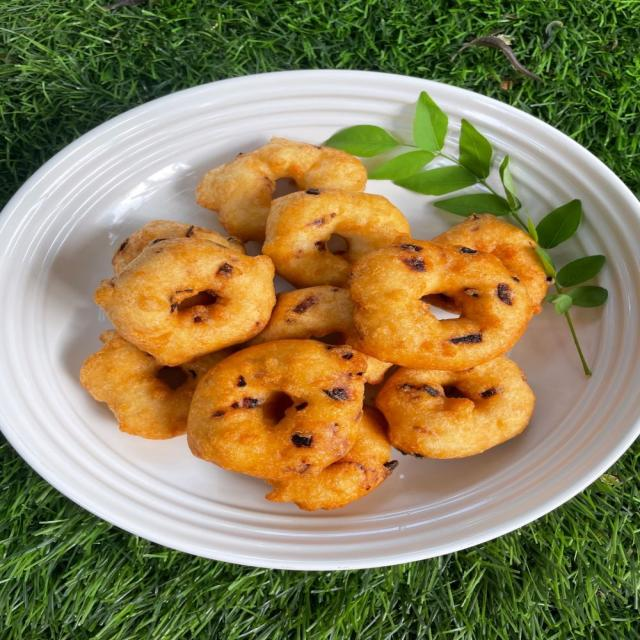medu vadai: (82, 140, 528, 497), (349, 237, 531, 370)
